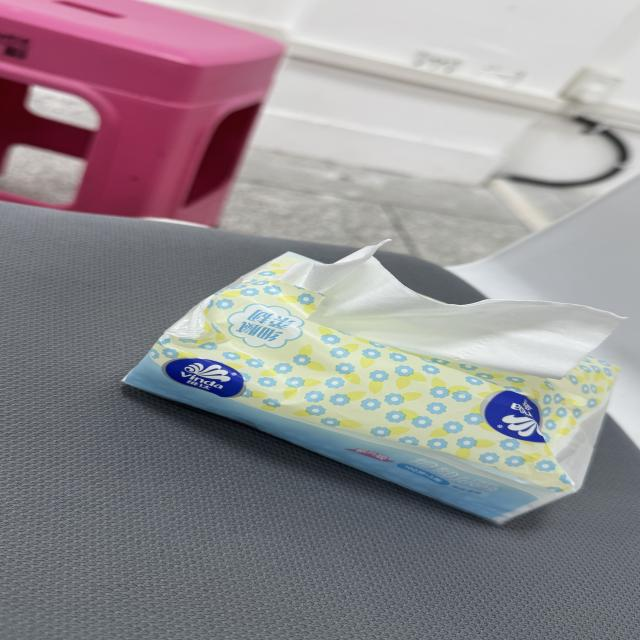tissue: (126, 248, 620, 521), (282, 241, 623, 379)
